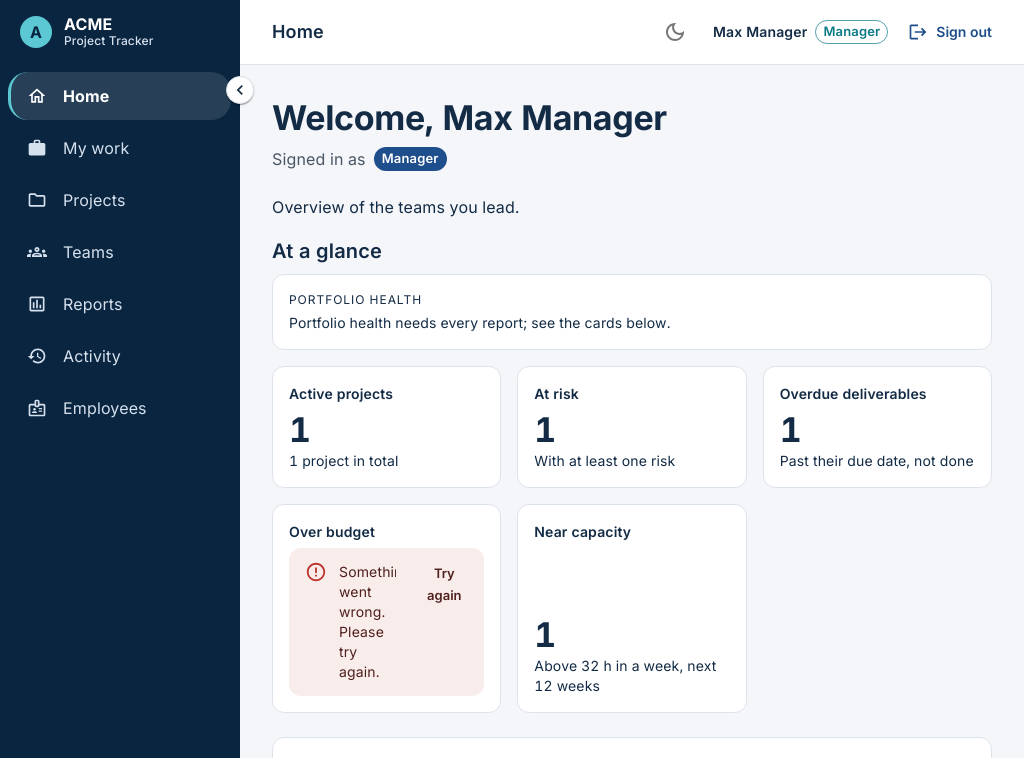
Test case: Home: manager team dashboard › one failing report leaves the other cards working, and Try again reloads it
The width and height of the screenshot is (1024, 758).
Expected: the text "Something went wrong. Please try again." is shown, [339, 554, 396, 690]
Click the button "Try again" at [444, 584], box [412, 558, 476, 611]
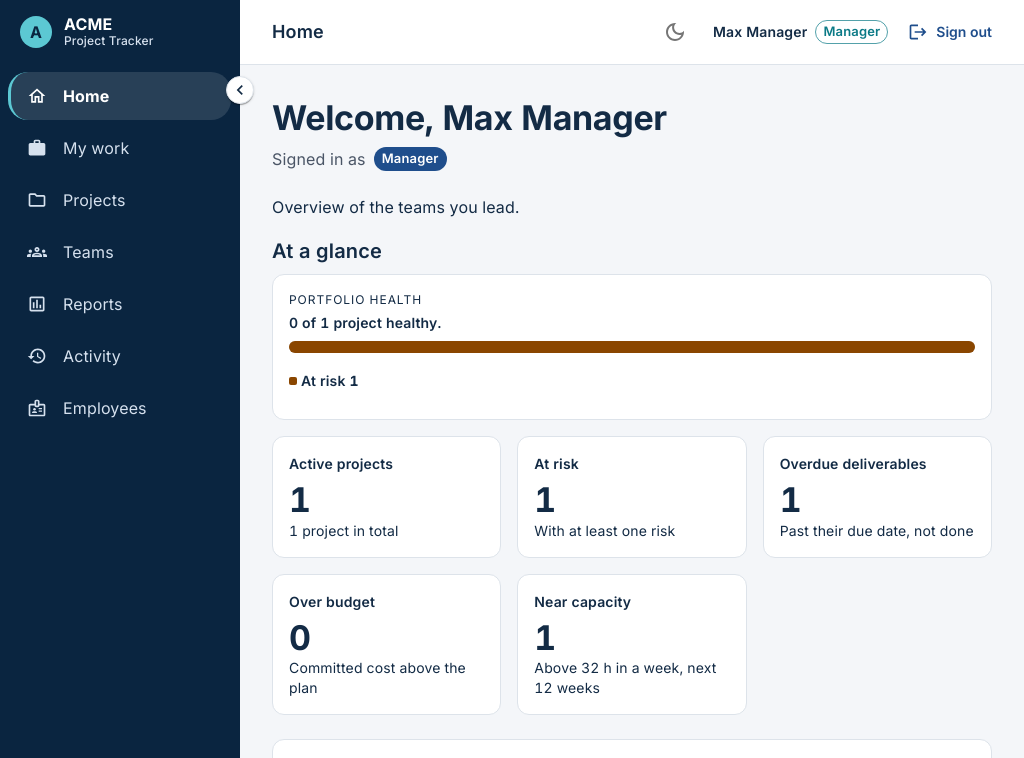
Now the message "Something went wrong. Please try again. Try again" is gone
